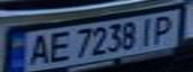2: (90, 24, 112, 56)
3: (106, 21, 127, 54)
7: (72, 26, 93, 60)
8: (121, 19, 142, 51)
A: (21, 32, 54, 68)
E: (42, 29, 75, 64)
I: (136, 16, 160, 47)
P: (148, 12, 178, 44)
